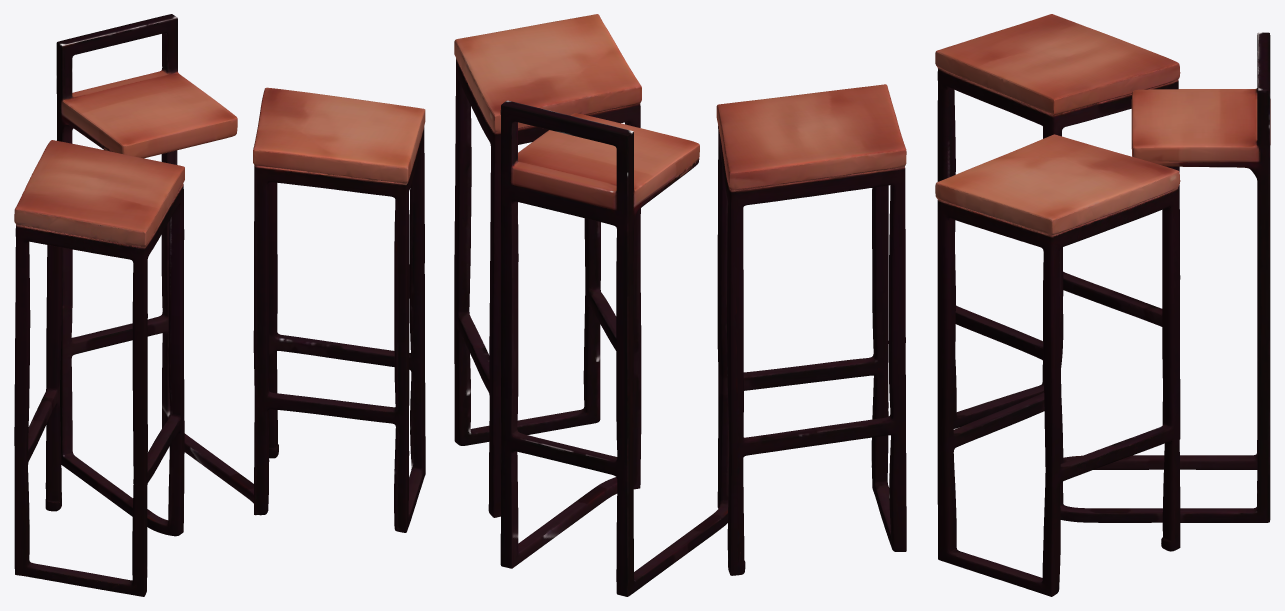
Rendered from banqueta.glb.
The picture shows the model from 3 angles, left to right: view 1: azimuth 30°, elevation 25°; view 2: azimuth 150°, elevation 25°; view 3: azimuth 270°, elevation 25°; orthographic projection. The views are drawn at different scales.
Parts seen in each view (by area): view 1: model; view 2: model; view 3: model.
Part boxes in pixels (x1=…): model: x1=14, y1=14, x2=425, y2=596; model: x1=454, y1=14, x2=906, y2=596; model: x1=935, y1=14, x2=1270, y2=596.
Size of the model in its own units: 1.9 by 1.86 by 1.3.
Materials: 1 (1 with a texture image).
